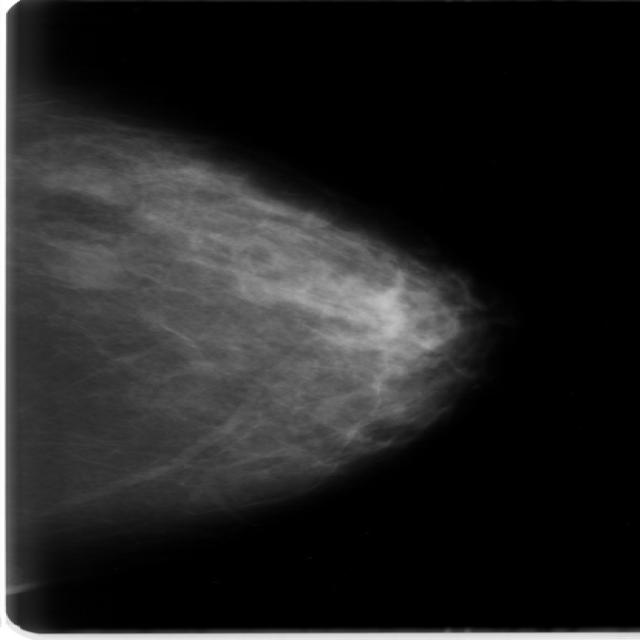tumour: (43, 239, 122, 290)
